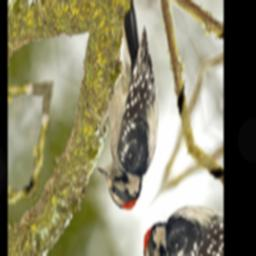Woodpecker: (57, 0, 204, 224)
